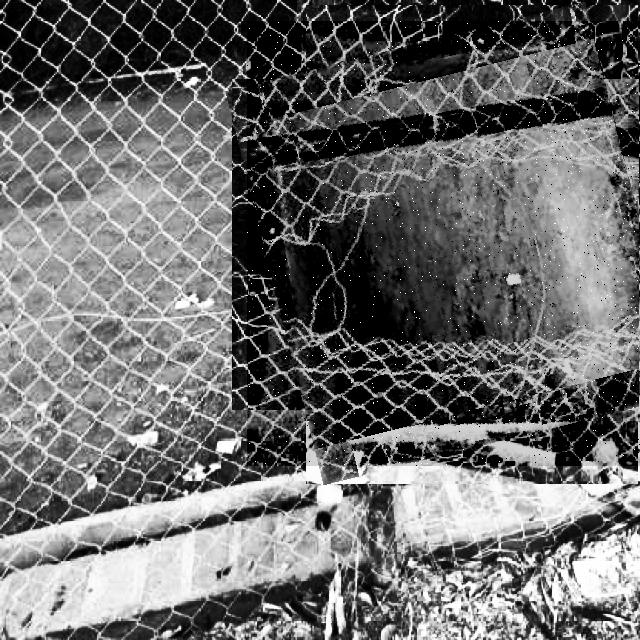anomaly-fence: (247, 21, 640, 466)
